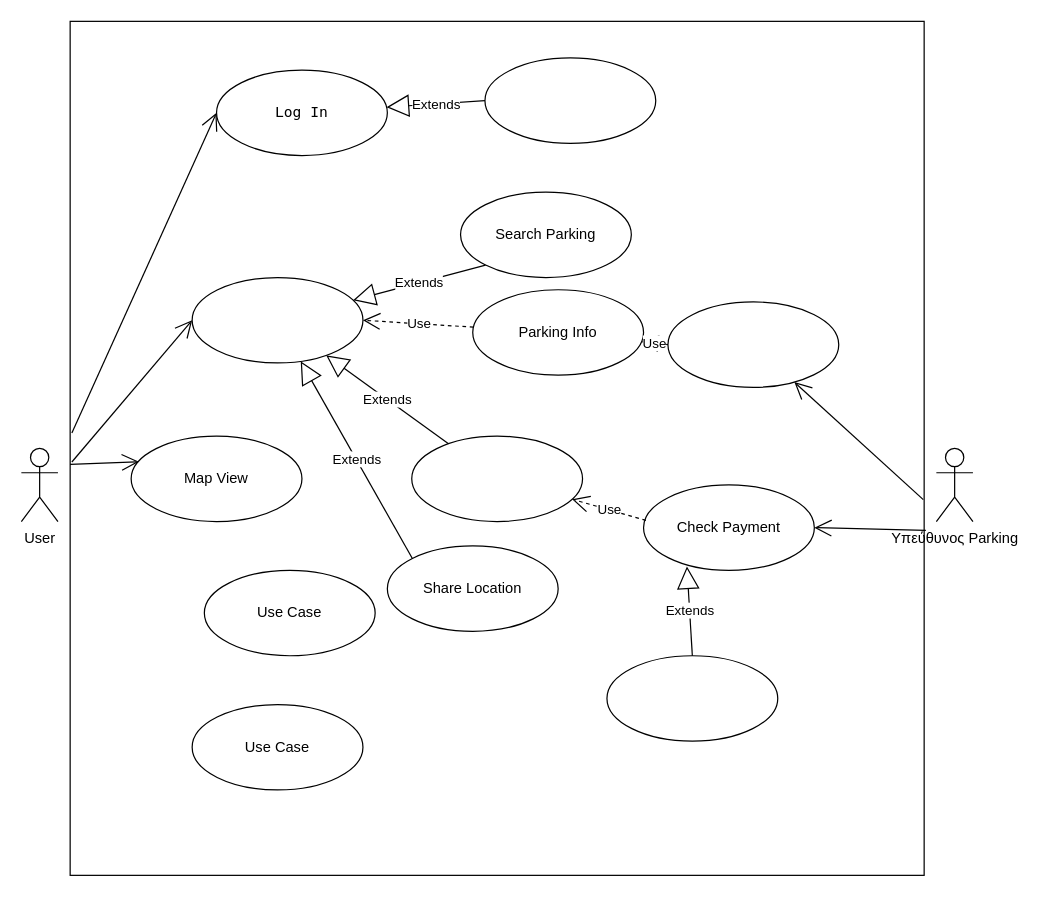
The diagram is 1039 pixels wide and 897 high, and some of its shapes have lost their labels. The shapes that lost their labels are listed below. From the top down, each one's box as (x1, y1, x2, y2) in pixels, then its label:
(484, 57, 656, 143): Registration
(191, 276, 363, 363): Parking type
(667, 301, 839, 387): Verify/Edit
(411, 435, 583, 522): Favourites
(606, 655, 778, 741): Online Payment
